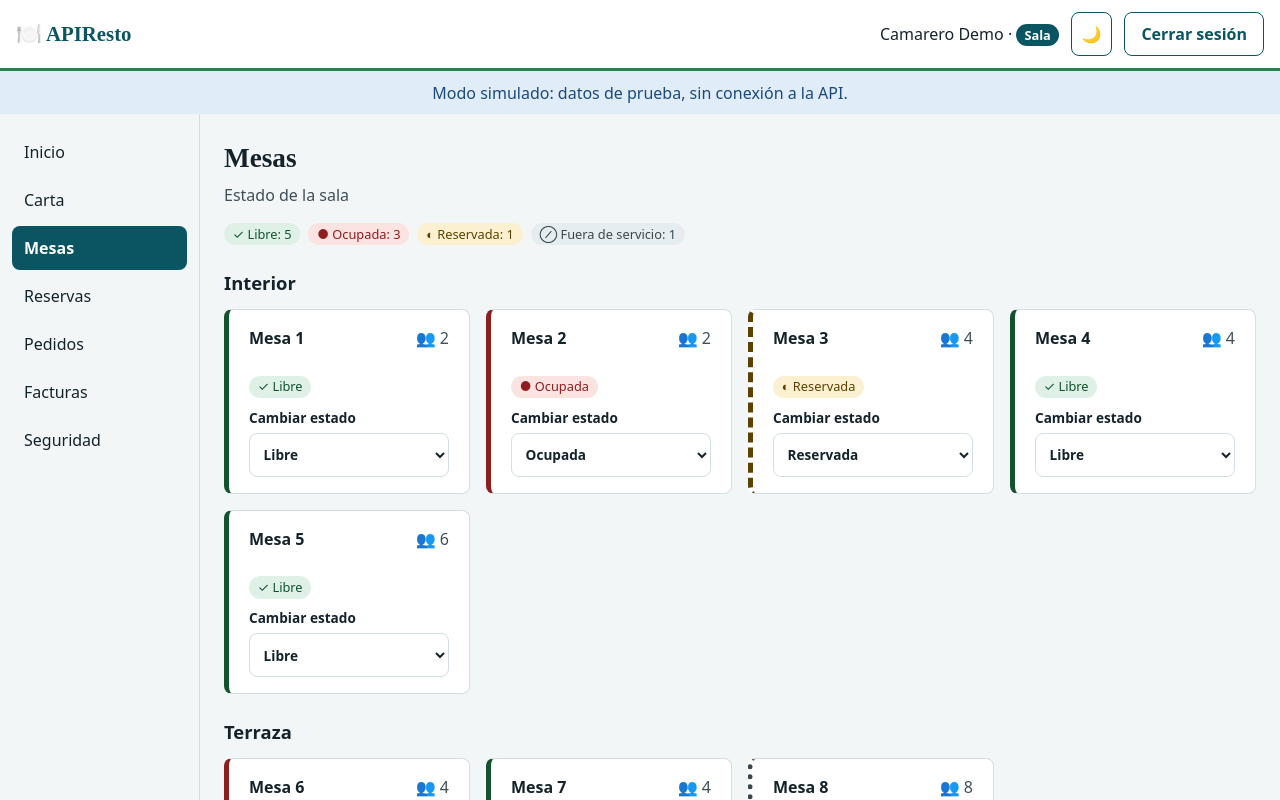
Test case: Mesas › el camarero cambia el estado de una mesa
Select "Ocupada" in the dropdown named "Estado de la mesa 1" at (349, 455), box x1=249 y1=433 x2=449 y2=477
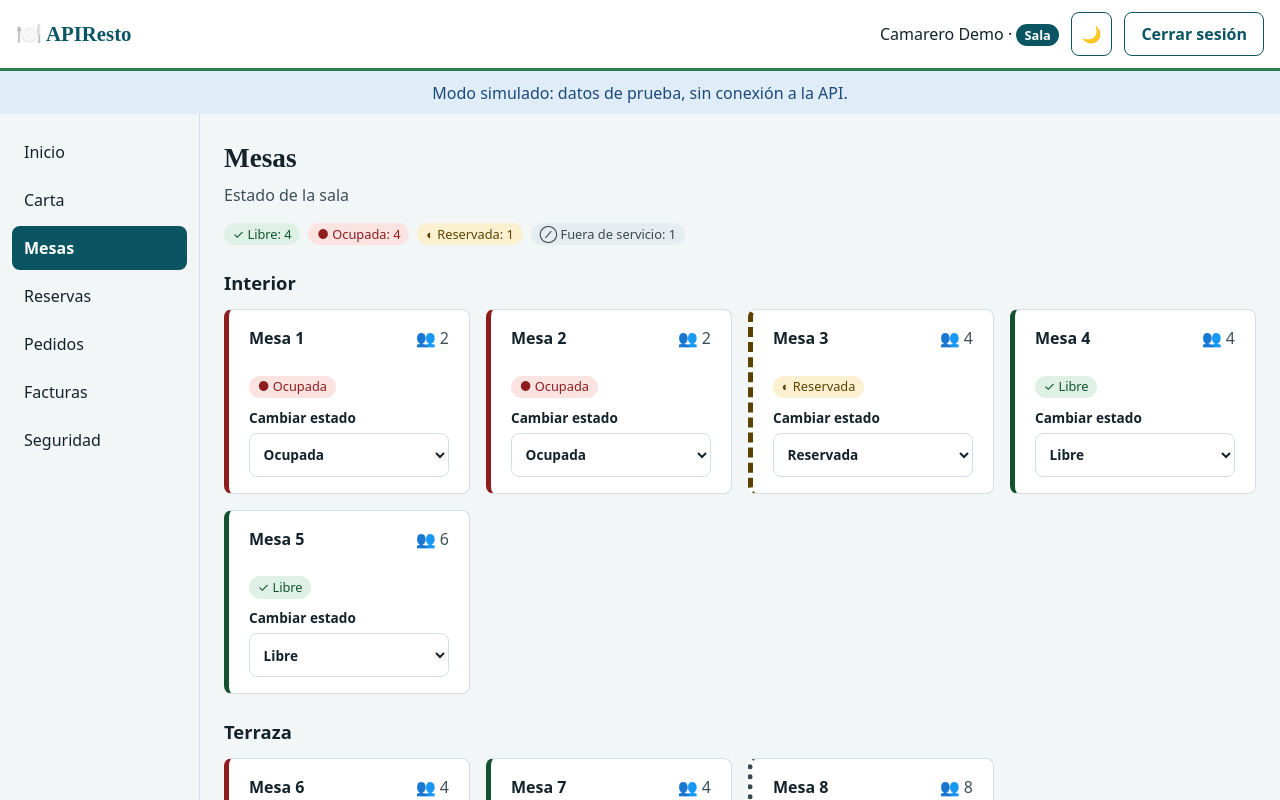
Result: the list item "Ocupada: 4" is shown at x1=308 y1=223 x2=409 y2=245
Result: the list item "Libre: 4" is shown at x1=224 y1=223 x2=300 y2=245
